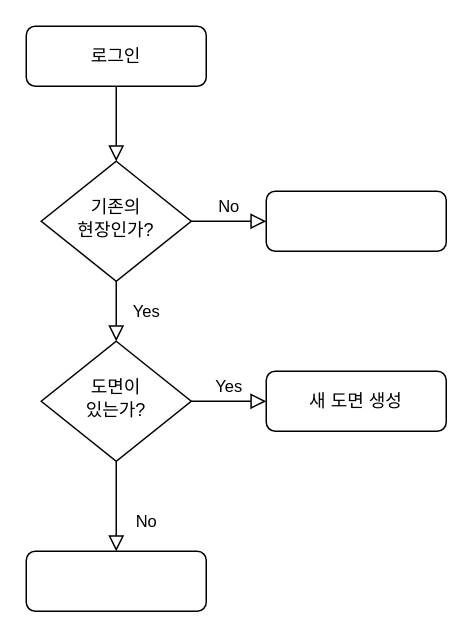
This 473x638 diagram has some shape labels left out. The centre of each missing label's shape, as x and y in pixels:
Repair Lamp: (115,580)
새 현장 생성: (355,220)
